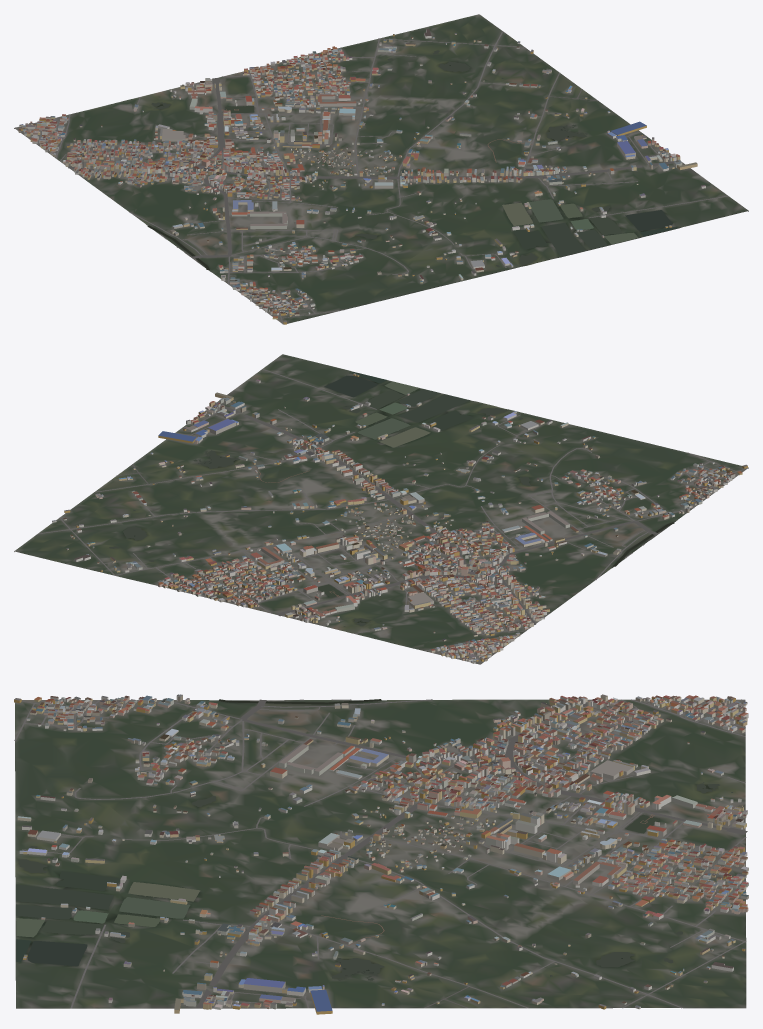
3 renders of one model, top to bottom at view 1: azimuth 30°, elevation 25°; view 2: azimuth 150°, elevation 25°; view 3: azimuth 270°, elevation 25°, orthographic. The views are drawn at different scales.
Visible parts, largest first — view 1: ground, buildings, roads, water; view 2: ground, buildings, roads, water; view 3: ground, buildings, water, roads.
Part boxes in pixels (box(x1,y1,x2,y2)): ground: box(14, 14, 748, 324); buildings: box(18, 29, 705, 324); roads: box(15, 31, 728, 324); water: box(147, 50, 677, 269); ground: box(14, 354, 748, 664); buildings: box(52, 373, 747, 663); roads: box(38, 369, 748, 664); water: box(109, 372, 674, 626); ground: box(15, 699, 746, 1008); buildings: box(14, 694, 748, 1014); water: box(16, 699, 733, 980); roads: box(14, 699, 747, 1008).
Size of the model in its own units: 1436 by 26.56 by 1410.
